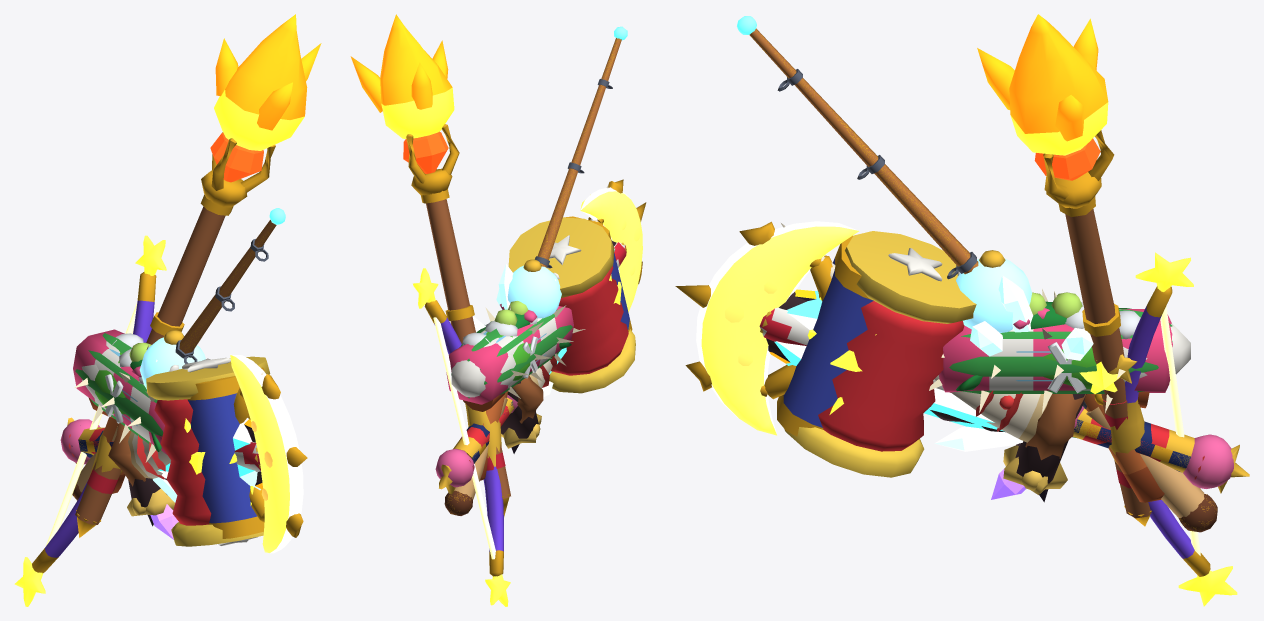
File: gear-weapons.glb
3 renders of one model, left to right at view 1: azimuth 30°, elevation 25°; view 2: azimuth 150°, elevation 25°; view 3: azimuth 270°, elevation 25°, orthographic. The views are drawn at different scales.
Parts seen in each view (by area): view 1: staff_fire@hand-right, toy_hammer@hand-right, hammer_thunder@hand-right, scythe_moon@hand-right, bow_star@hand-right, gun_bubble@hand-right, gun_spike@hand-right, rod@hand-right, sword_tusk@hand-right, sword_candy@hand-right, trident@hand-right, sword_crystal@hand-right (+4 smaller); view 2: staff_fire@hand-right, toy_hammer@hand-right, bow_star@hand-right, gun_bubble@hand-right, scythe_moon@hand-right, rod@hand-right, gun_spike@hand-right, sword_candy@hand-right, gun_ice@hand-right, blaster_rainbow@hand-right, sword_tusk@hand-right, gun_pea@hand-right (+3 smaller); view 3: toy_hammer@hand-right, staff_fire@hand-right, scythe_moon@hand-right, hammer_thunder@hand-right, bow_star@hand-right, gun_bubble@hand-right, rod@hand-right, gun_spike@hand-right, sword_tusk@hand-right, sword_candy@hand-right, sword_crystal@hand-right, gun_ice@hand-right (+5 smaller).
Boxes of the visible parts, x1=… form: staff_fire@hand-right: x1=75, y1=14, x2=321, y2=537; toy_hammer@hand-right: x1=78, y1=356, x2=270, y2=546; hammer_thunder@hand-right: x1=78, y1=367, x2=264, y2=538; scythe_moon@hand-right: x1=67, y1=354, x2=303, y2=553; bow_star@hand-right: x1=14, y1=235, x2=166, y2=606; gun_bubble@hand-right: x1=73, y1=329, x2=205, y2=454; gun_spike@hand-right: x1=74, y1=333, x2=163, y2=493; rod@hand-right: x1=72, y1=220, x2=276, y2=500; sword_tusk@hand-right: x1=68, y1=372, x2=263, y2=486; sword_candy@hand-right: x1=60, y1=419, x2=260, y2=516; trident@hand-right: x1=233, y1=374, x2=307, y2=537; sword_crystal@hand-right: x1=150, y1=418, x2=260, y2=539; staff_fire@hand-right: x1=350, y1=14, x2=510, y2=516; toy_hammer@hand-right: x1=453, y1=217, x2=635, y2=457; bow_star@hand-right: x1=413, y1=268, x2=510, y2=606; gun_bubble@hand-right: x1=446, y1=259, x2=573, y2=404; scythe_moon@hand-right: x1=439, y1=187, x2=642, y2=494; rod@hand-right: x1=444, y1=38, x2=621, y2=515; gun_spike@hand-right: x1=448, y1=304, x2=585, y2=480; sword_candy@hand-right: x1=435, y1=242, x2=626, y2=487; gun_ice@hand-right: x1=462, y1=263, x2=556, y2=378; blaster_rainbow@hand-right: x1=451, y1=334, x2=515, y2=397; sword_tusk@hand-right: x1=469, y1=184, x2=608, y2=473; gun_pea@hand-right: x1=485, y1=301, x2=571, y2=380; toy_hammer@hand-right: x1=784, y1=231, x2=1194, y2=477; staff_fire@hand-right: x1=977, y1=14, x2=1151, y2=526; scythe_moon@hand-right: x1=696, y1=221, x2=1249, y2=493; hammer_thunder@hand-right: x1=777, y1=235, x2=1190, y2=471; bow_star@hand-right: x1=1079, y1=252, x2=1237, y2=606; gun_bubble@hand-right: x1=939, y1=250, x2=1172, y2=392; rod@hand-right: x1=750, y1=28, x2=1217, y2=532; gun_spike@hand-right: x1=929, y1=289, x2=1172, y2=502; sword_tusk@hand-right: x1=781, y1=223, x2=1204, y2=479; sword_candy@hand-right: x1=759, y1=307, x2=1233, y2=494; sword_crystal@hand-right: x1=774, y1=290, x2=1026, y2=499; gun_ice@hand-right: x1=970, y1=275, x2=1140, y2=393.
Size of the model in its own units: 0.8427 by 1.99 by 1.46.
